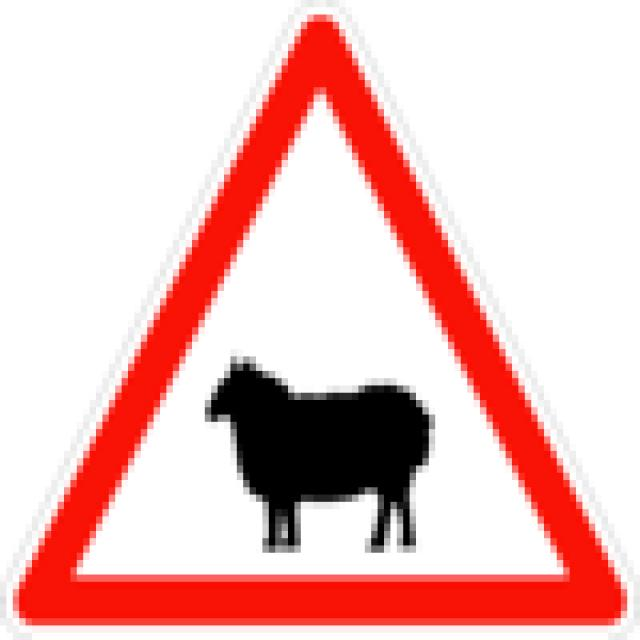animal_danger: (0, 0, 634, 633)
